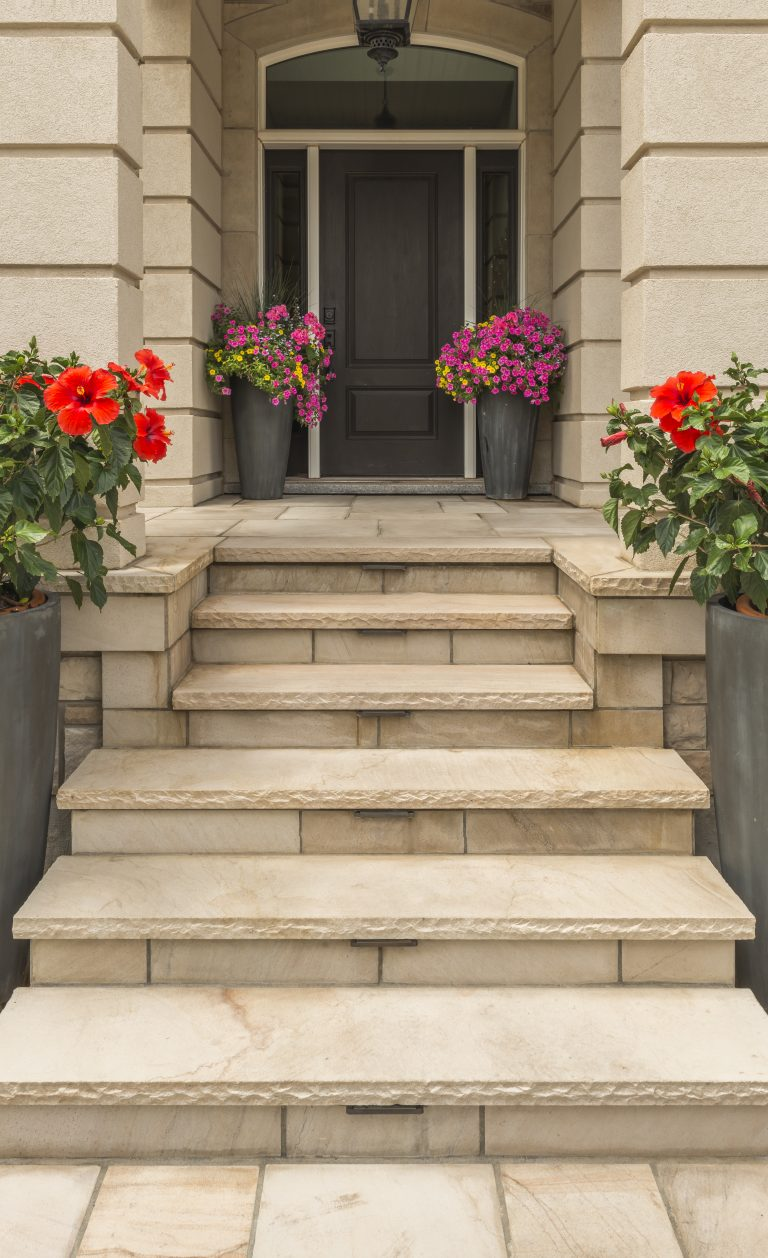upstairs: (192, 528, 559, 1198)
